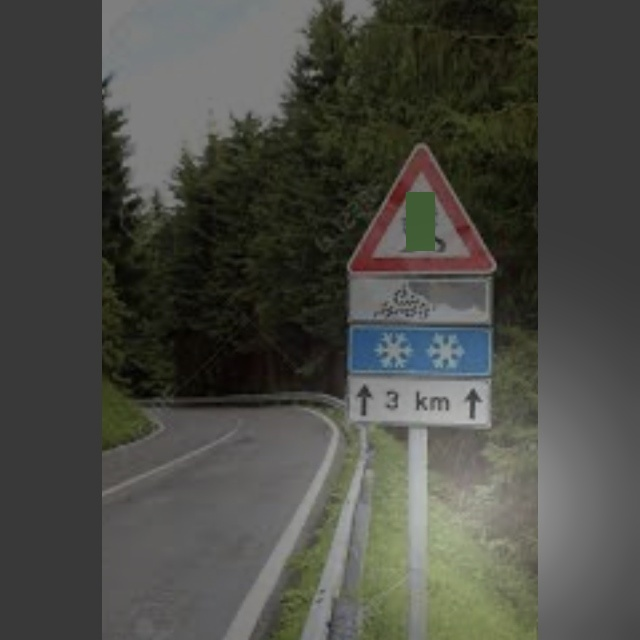Slippery_Road: (353, 143, 497, 273)
